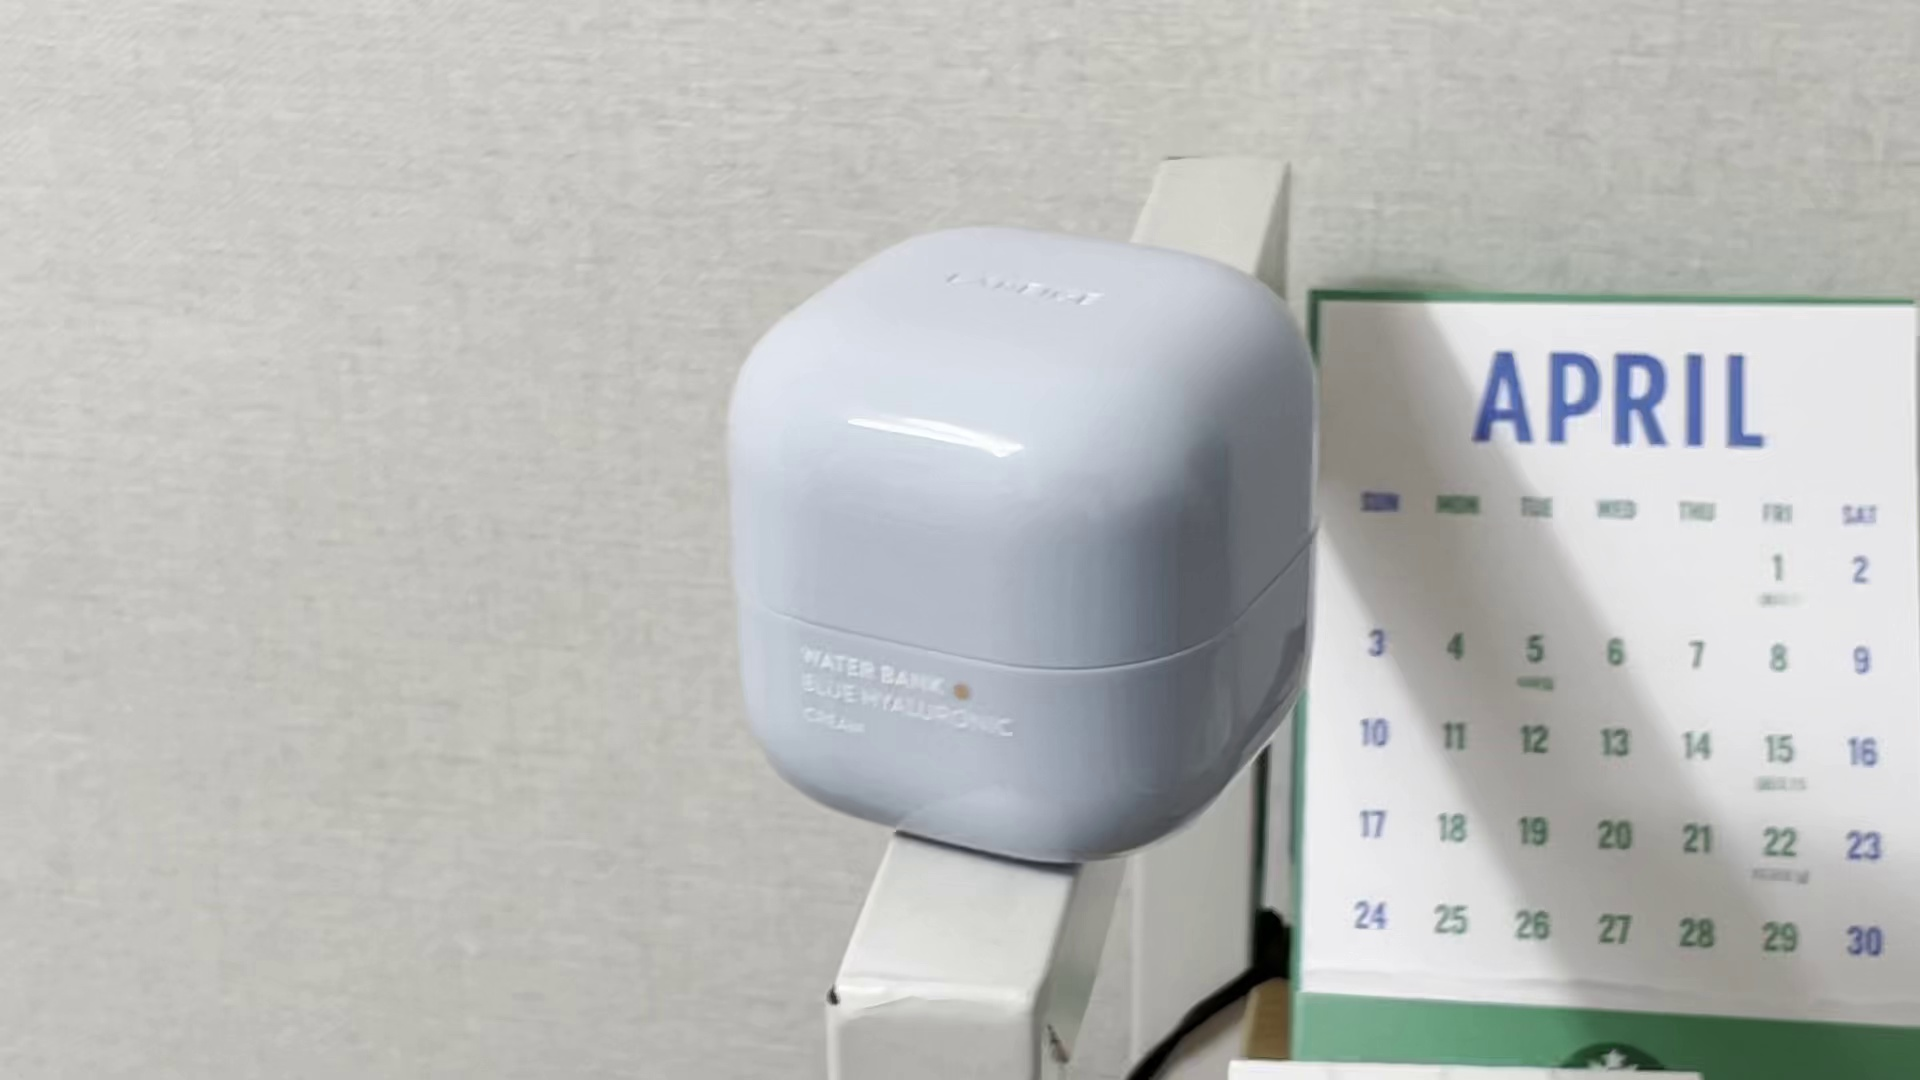cream: (732, 227, 1320, 862)
